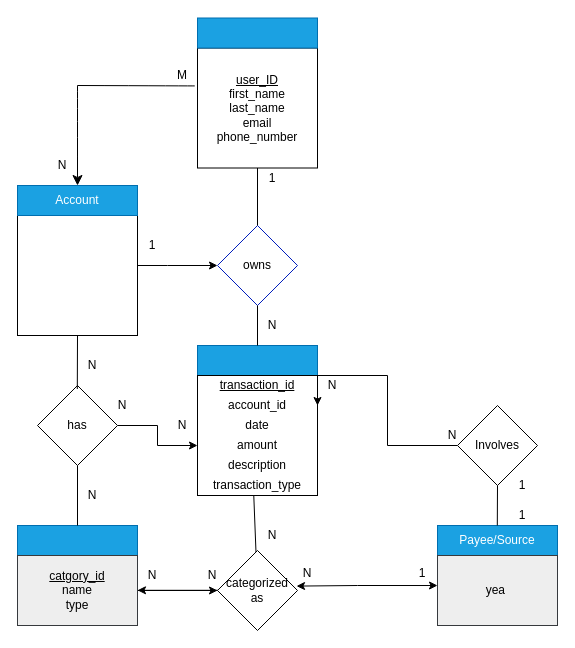
Image size: 575x648. Some labels were removed from this diagram. Each missing label, with the box of its shape:
Account Holder: (196, 17, 318, 48)
Account_id bank_name account_type balance: (16, 214, 138, 336)
Category: (16, 524, 138, 556)
Transaction: (196, 344, 318, 376)
